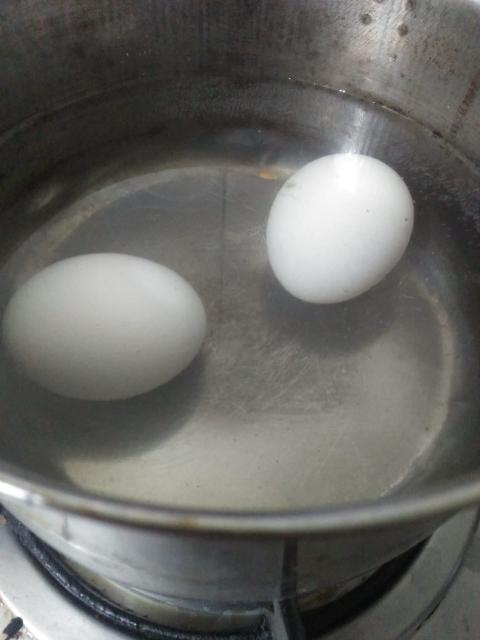Sano: (0, 251, 207, 399), (268, 151, 414, 301)
